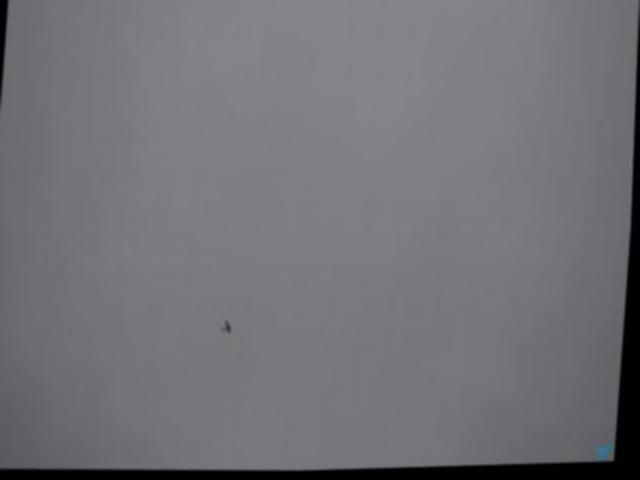uav: (213, 316, 245, 341)
